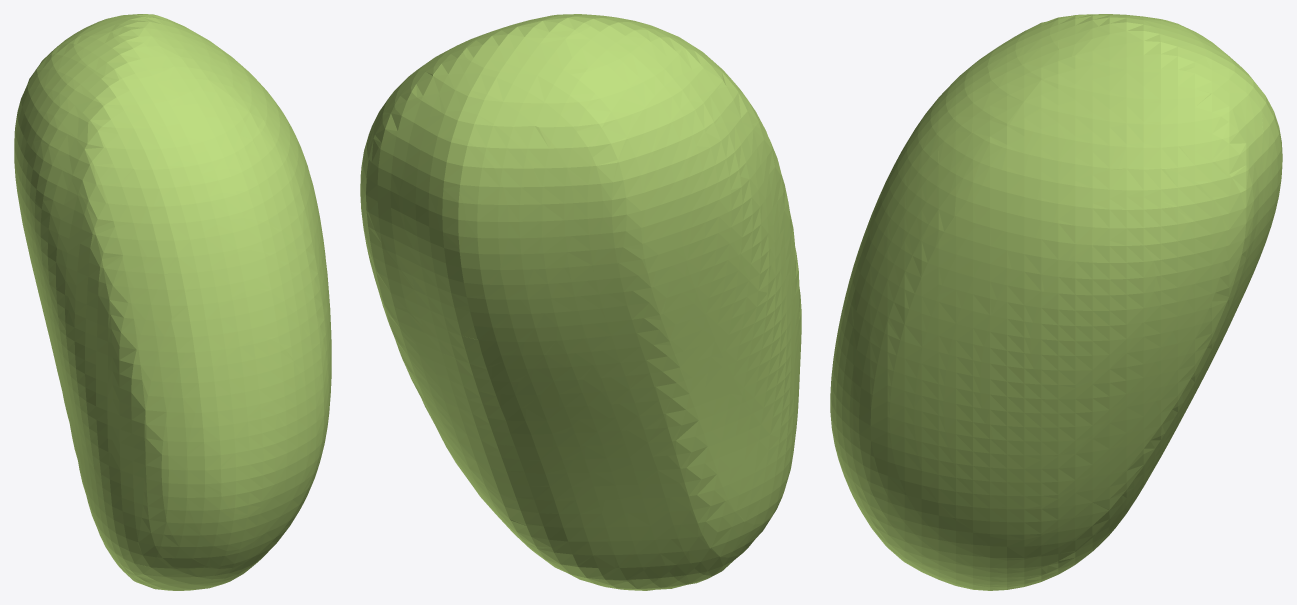
The model's file is hand_part_9.glb.
3 renders of one model, left to right at view 1: azimuth 30°, elevation 25°; view 2: azimuth 150°, elevation 25°; view 3: azimuth 270°, elevation 25°, orthographic. The views are drawn at different scales.
Size of the model in its own units: 0.012 by 0.0211 by 0.0154.
